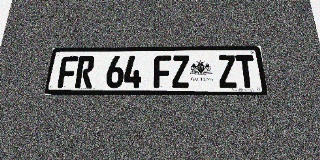4: (123, 56, 142, 88)
6: (105, 56, 125, 88)
F: (57, 56, 78, 88), (154, 55, 171, 88)
R: (75, 56, 95, 88)
T: (235, 55, 257, 88)
Z: (217, 55, 238, 88), (172, 55, 190, 88)
